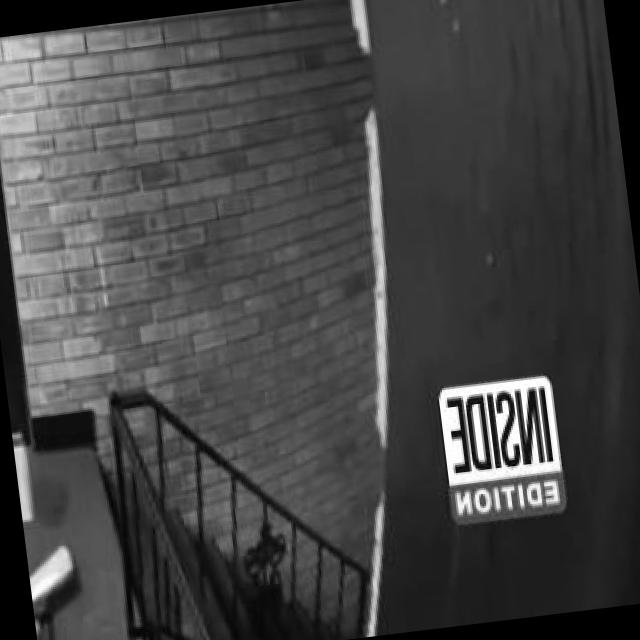Guns: (21, 506, 104, 640)
